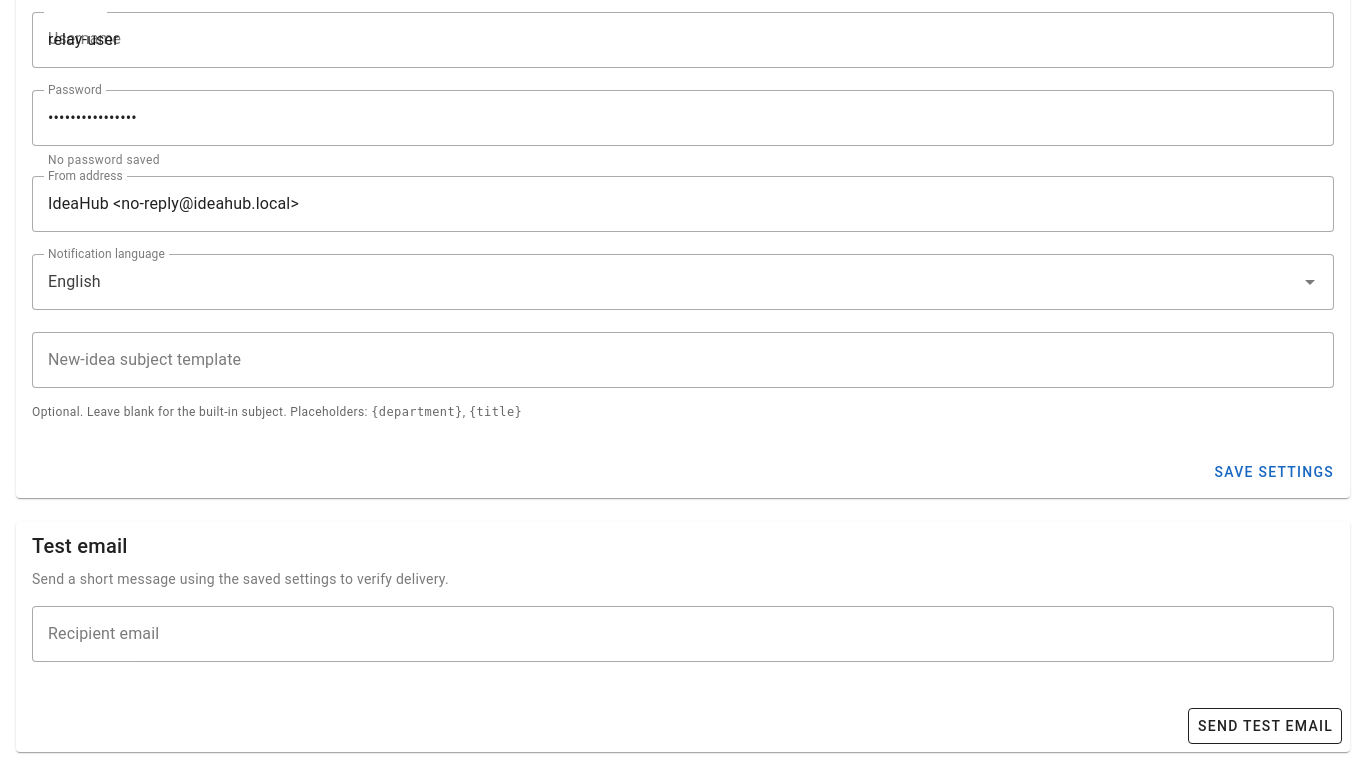
Test: MailSettingsPage › CLEARS the password and refreshes the hint after a successful save
The image size is (1366, 768).
(page scrolled)
Click the button "Save settings".
click(1274, 472)  # box left=1205, top=454, right=1342, bottom=490
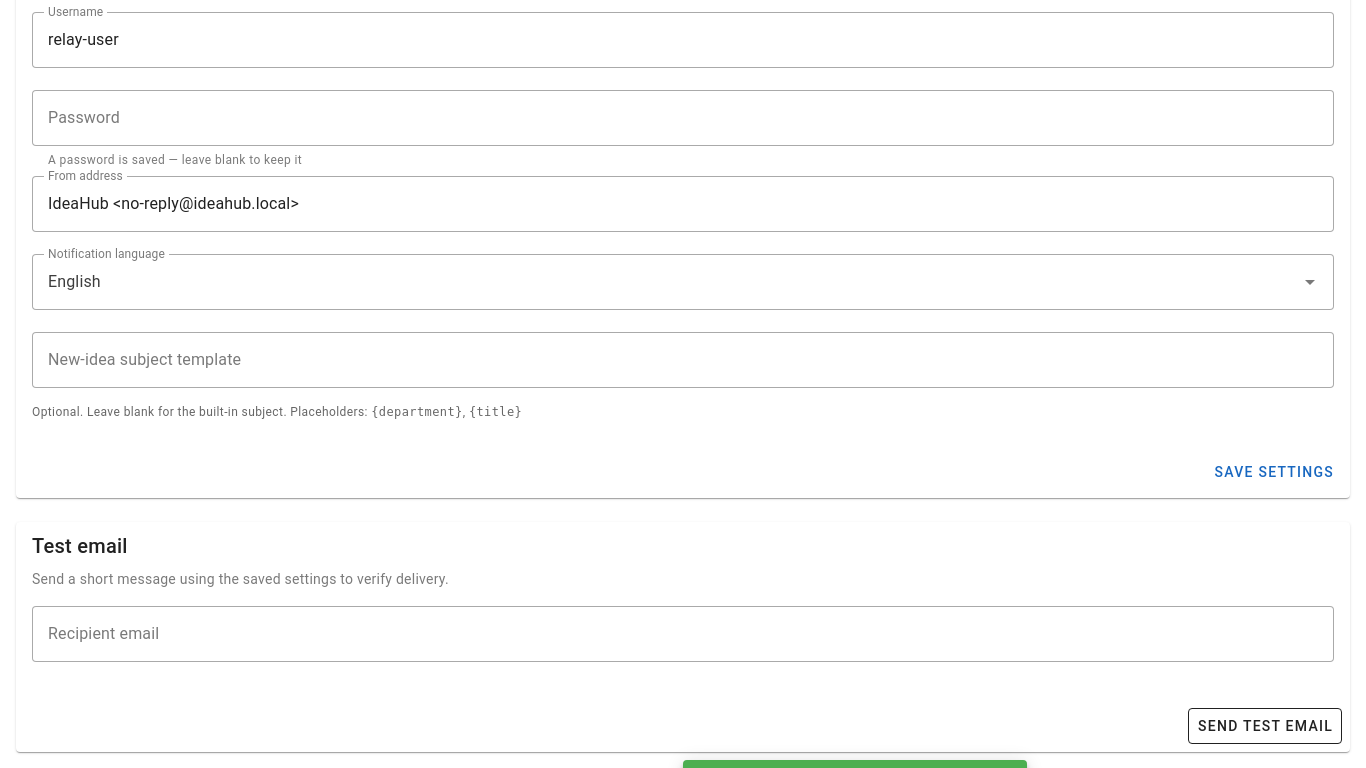
Check: the text "A password is saved" is shown, box left=48, top=153, right=302, bottom=167
